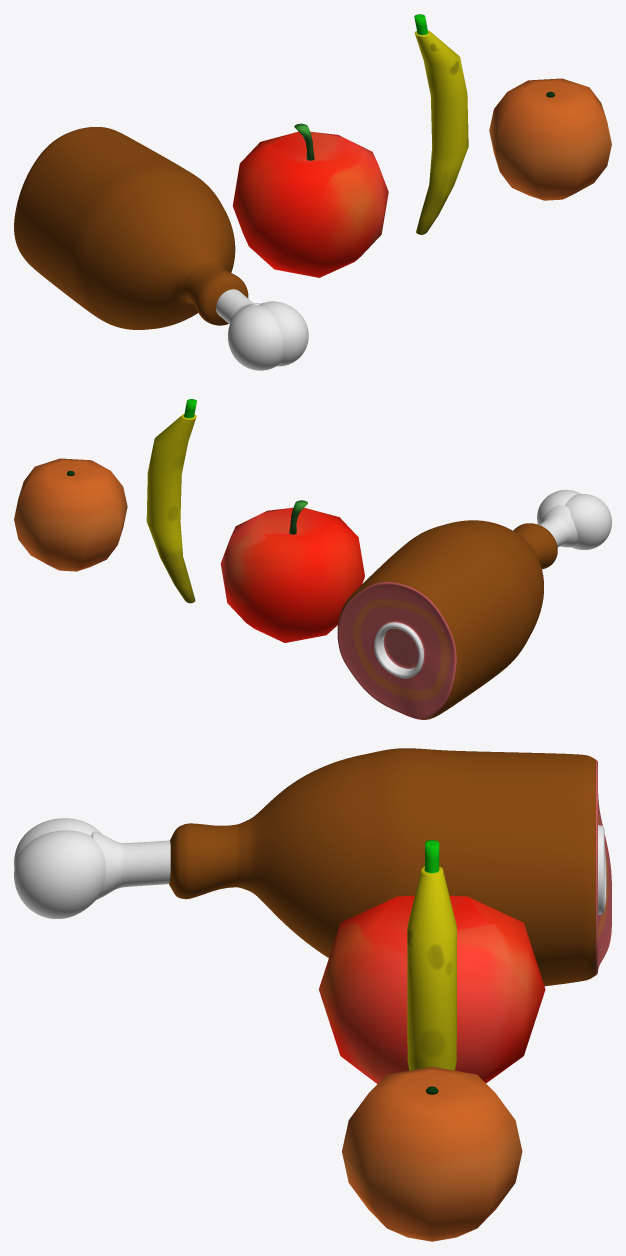
Rendered from props_videojuego_final_3.fbx.
3 renders of one model, top to bottom at view 1: azimuth 30°, elevation 25°; view 2: azimuth 150°, elevation 25°; view 3: azimuth 270°, elevation 25°, orthographic. The views are drawn at different scales.
Visible parts, largest first — view 1: Trozo_Carne, Manzana, Naranja, Platano; view 2: Trozo_Carne, Manzana, Naranja, Platano; view 3: Trozo_Carne, Manzana, Naranja, Platano.
Part boxes in pixels (x1=…): Trozo_Carne: x1=14, y1=127, x2=308, y2=370; Manzana: x1=232, y1=123, x2=388, y2=277; Naranja: x1=489, y1=78, x2=611, y2=200; Platano: x1=414, y1=14, x2=468, y2=234; Trozo_Carne: x1=337, y1=489, x2=611, y2=719; Manzana: x1=220, y1=500, x2=364, y2=642; Naranja: x1=14, y1=458, x2=127, y2=571; Platano: x1=146, y1=399, x2=196, y2=603; Trozo_Carne: x1=14, y1=748, x2=611, y2=986; Manzana: x1=319, y1=895, x2=545, y2=1083; Naranja: x1=342, y1=1066, x2=522, y2=1241; Platano: x1=407, y1=840, x2=456, y2=1070.
Bounding box in the file's own units: 425 × 178 × 287.
Materials: 10 (6 with a texture image).
